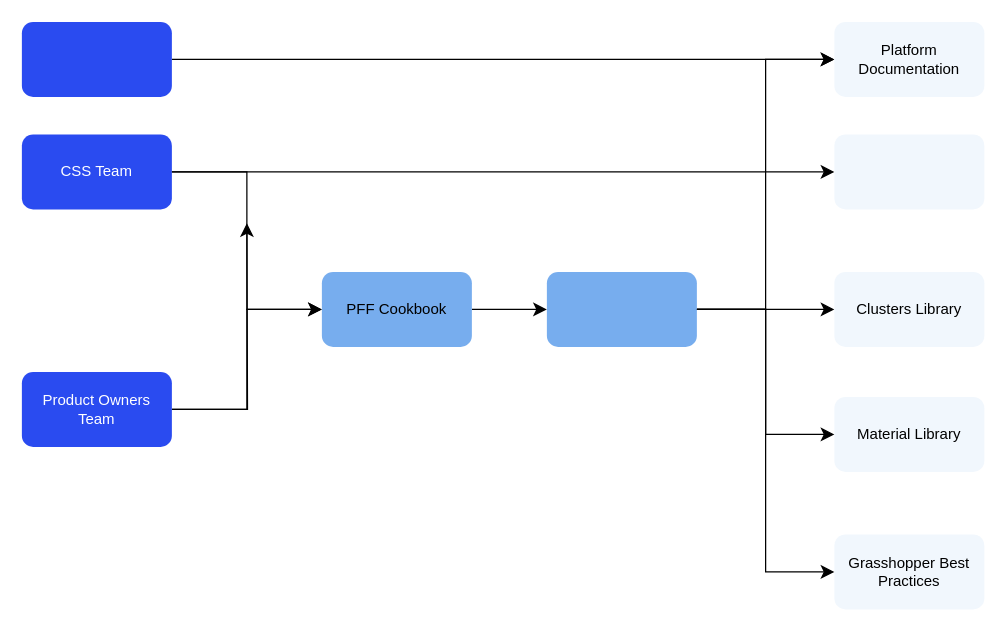
This 1005x630 diagram has some shape labels left out. The centre of each missing label's shape, as x and y in pixels:
Development Team: pixel 96 58
Internal Documentation: pixel 909 171
PFF Plays: pixel 621 308
